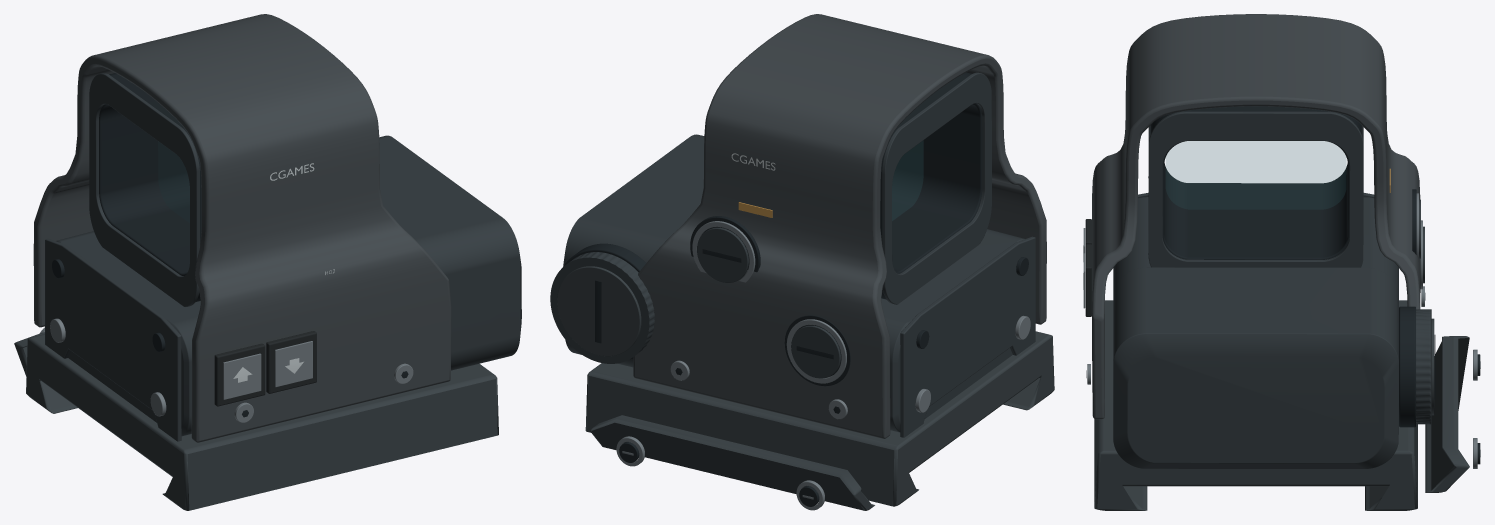
The model's file is H02_Holo_X50_Rail.fbx.
3 views of the same model, side by side, from view 1: azimuth 30°, elevation 25°; view 2: azimuth 150°, elevation 25°; view 3: azimuth 270°, elevation 25° (orthographic).
Visible parts, largest first — view 1: 01 open protective U hood, 04 undercut adapter bridge, 02 rounded forward casing, 02 rear visible face plate, 03 inner window structural frame, 03 window rim rear, 03 transparent visual pane, 05 left button gasket.001, 05 left button face.001, 05 left button face, 05 left button gasket; view 2: 01 open protective U hood, 04 undercut adapter bridge, 02 rounded forward casing, 02 rear visible face plate, 03 inner window structural frame, 04 independent right side strip, 03 window rim rear, 05 front cap center, 05 front cap fine grip, 05 right inset disk, 05 right inset disk.001, 03 transparent visual pane (+5 smaller); view 3: 02 rounded forward casing, 01 open protective U hood, 03 inner window structural frame, 03 transparent visual pane, 04 undercut adapter bridge, 03 window rim front, 04 independent right side strip, 05 front side cap seat, 05 front cap fine grip, 05 left button gasket.
Boxes of the visible parts, box(x1,y1,x2,y2) form: 01 open protective U hood: box(33, 14, 451, 442); 04 undercut adapter bridge: box(26, 334, 498, 510); 02 rounded forward casing: box(56, 135, 521, 436); 02 rear visible face plate: box(45, 238, 181, 441); 03 inner window structural frame: box(99, 73, 201, 301); 03 window rim rear: box(89, 73, 199, 306); 03 transparent visual pane: box(158, 142, 189, 222); 05 left button gasket.001: box(214, 343, 265, 406); 05 left button face.001: box(223, 353, 261, 399); 05 left button face: box(275, 341, 312, 387); 05 left button gasket: box(266, 331, 316, 393); 01 open protective U hood: box(633, 14, 1046, 438); 04 undercut adapter bridge: box(585, 331, 1054, 506); 02 rounded forward casing: box(563, 134, 1024, 432); 02 rear visible face plate: box(900, 236, 1035, 437); 03 inner window structural frame: box(880, 72, 982, 299); 04 independent right side strip: box(590, 415, 874, 510); 03 window rim rear: box(882, 72, 991, 304); 05 front cap center: box(557, 266, 641, 356); 05 front cap fine grip: box(550, 252, 654, 363); 05 right inset disk: box(697, 227, 748, 282); 05 right inset disk.001: box(791, 325, 840, 378); 03 transparent visual pane: box(892, 141, 923, 220); 02 rounded forward casing: box(1113, 197, 1398, 468); 01 open protective U hood: box(1092, 14, 1420, 419); 03 inner window structural frame: box(1150, 106, 1361, 259); 03 transparent visual pane: box(1166, 141, 1346, 209); 04 undercut adapter bridge: box(1094, 300, 1417, 510); 03 window rim front: box(1148, 111, 1363, 267); 04 independent right side strip: box(1425, 336, 1469, 492); 05 front side cap seat: box(1399, 306, 1415, 427); 05 front cap fine grip: box(1416, 309, 1431, 424); 05 left button gasket: box(1085, 244, 1091, 316).
Bounding box in the file's own units: 8.33 × 8.25 × 8.18.
